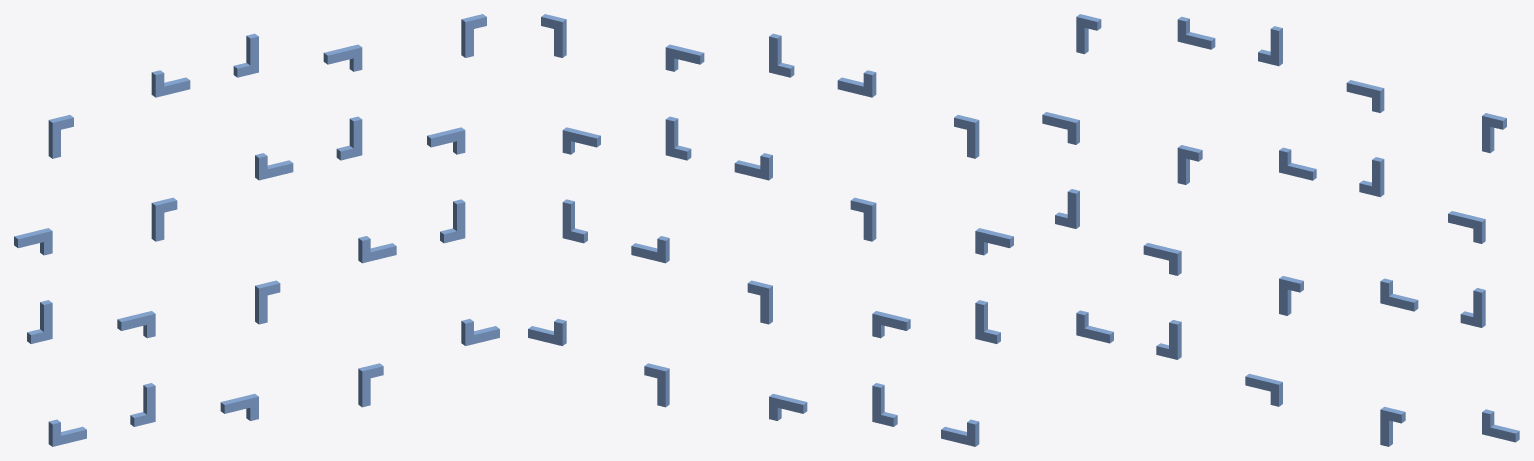
The model's file is repeated.dae.
3 views of the same model, side by side, from view 1: azimuth 30°, elevation 25°; view 2: azimuth 150°, elevation 25°; view 3: azimuth 330°, elevation 25° (orthographic).
Parts seen in each view (by area): view 1: RawDup_11, RawDup_13, RawDup_16, RawDup_18, RawDup_03, RawDup_19, RawDup_05, RawDup_15, RawDup_09, RawDup_07, RawDup_17, RawDup_01 (+8 smaller); view 2: RawDup_11, RawDup_13, RawDup_16, RawDup_18, RawDup_03, RawDup_19, RawDup_05, RawDup_15, RawDup_09, RawDup_07, RawDup_17, RawDup_01 (+8 smaller); view 3: RawDup_08, RawDup_16, RawDup_06, RawDup_18, RawDup_15, RawDup_13, RawDup_00, RawDup_03, RawDup_11, RawDup_01, RawDup_04, RawDup_12 (+8 smaller).
Boxes of the visible parts, x1,y1,x2,y2 form: RawDup_11: (151,197,177,241); RawDup_13: (336,116,362,160); RawDup_16: (151,70,190,97); RawDup_18: (323,44,362,71); RawDup_03: (358,363,383,407); RawDup_19: (461,14,486,57); RawDup_05: (27,300,52,343); RawDup_15: (48,115,73,158); RawDup_09: (440,199,465,243); RawDup_07: (255,280,280,324); RawDup_17: (233,33,258,77); RawDup_01: (130,383,155,426); RawDup_11: (850,197,876,241); RawDup_13: (665,116,691,160); RawDup_16: (837,70,876,97); RawDup_18: (665,44,704,71); RawDup_03: (644,363,669,407); RawDup_19: (541,14,566,57); RawDup_05: (975,300,1000,343); RawDup_15: (954,115,979,158); RawDup_09: (562,199,587,243); RawDup_07: (747,280,772,324); RawDup_17: (769,33,794,77); RawDup_01: (872,383,897,426); RawDup_08: (1380,278,1418,311); RawDup_16: (1177,16,1215,49); RawDup_06: (1143,243,1181,275); RawDup_18: (1346,80,1384,112); RawDup_15: (1076,14,1101,54); RawDup_13: (1359,157,1384,197); RawDup_00: (1076,310,1113,343); RawDup_03: (1380,406,1405,446); RawDup_11: (1177,145,1202,184); RawDup_01: (1156,320,1181,359); RawDup_04: (1482,409,1519,442); RawDup_12: (1279,147,1316,180).
Size of the model in its own units: 5.6 by 4.4 by 0.08.
